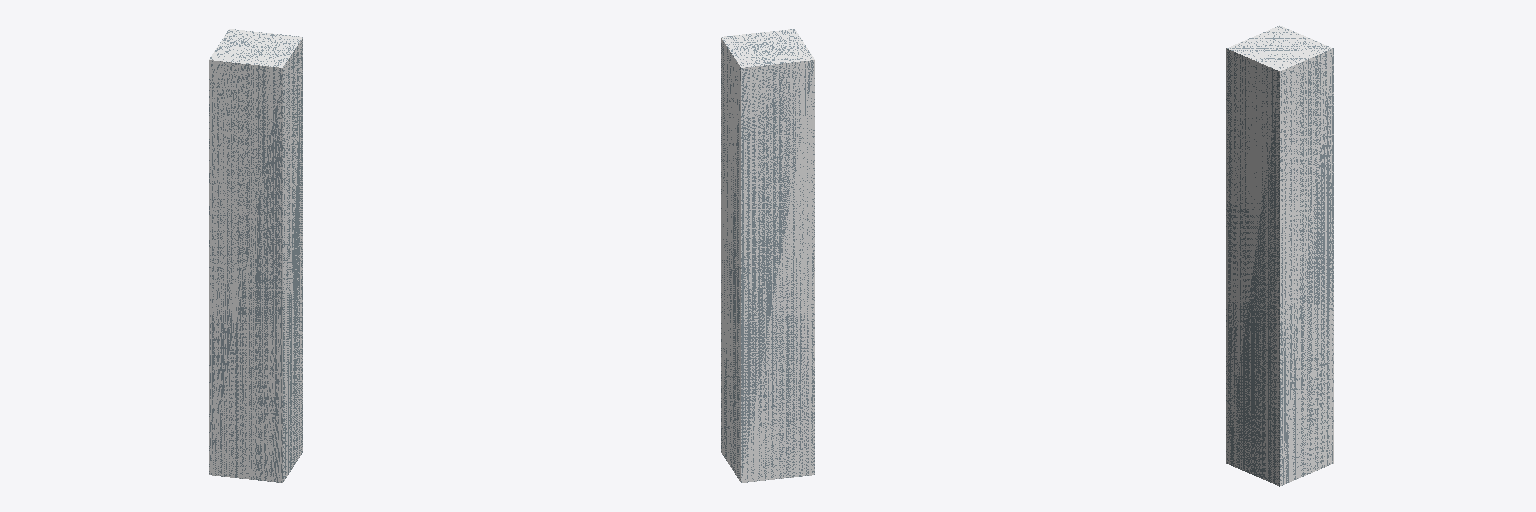
3 views of the same model, side by side, from view 1: azimuth 30°, elevation 25°; view 2: azimuth 150°, elevation 25°; view 3: azimuth 270°, elevation 25° (orthographic).
Parts seen in each view (by area): view 1: SketchUp.026_ID39; view 2: SketchUp.026_ID39; view 3: SketchUp.026_ID39.
Boxes of the visible parts, x1=… form: SketchUp.026_ID39: x1=209, y1=29, x2=302, y2=482; SketchUp.026_ID39: x1=721, y1=29, x2=814, y2=482; SketchUp.026_ID39: x1=1226, y1=25, x2=1333, y2=486.
Size of the model in its own units: 0.0038 by 0.0158 by 0.0037.